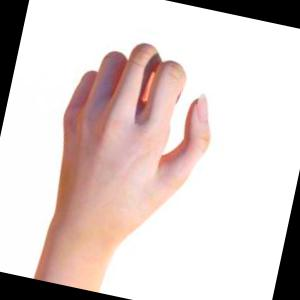rock: (34, 45, 209, 292)
